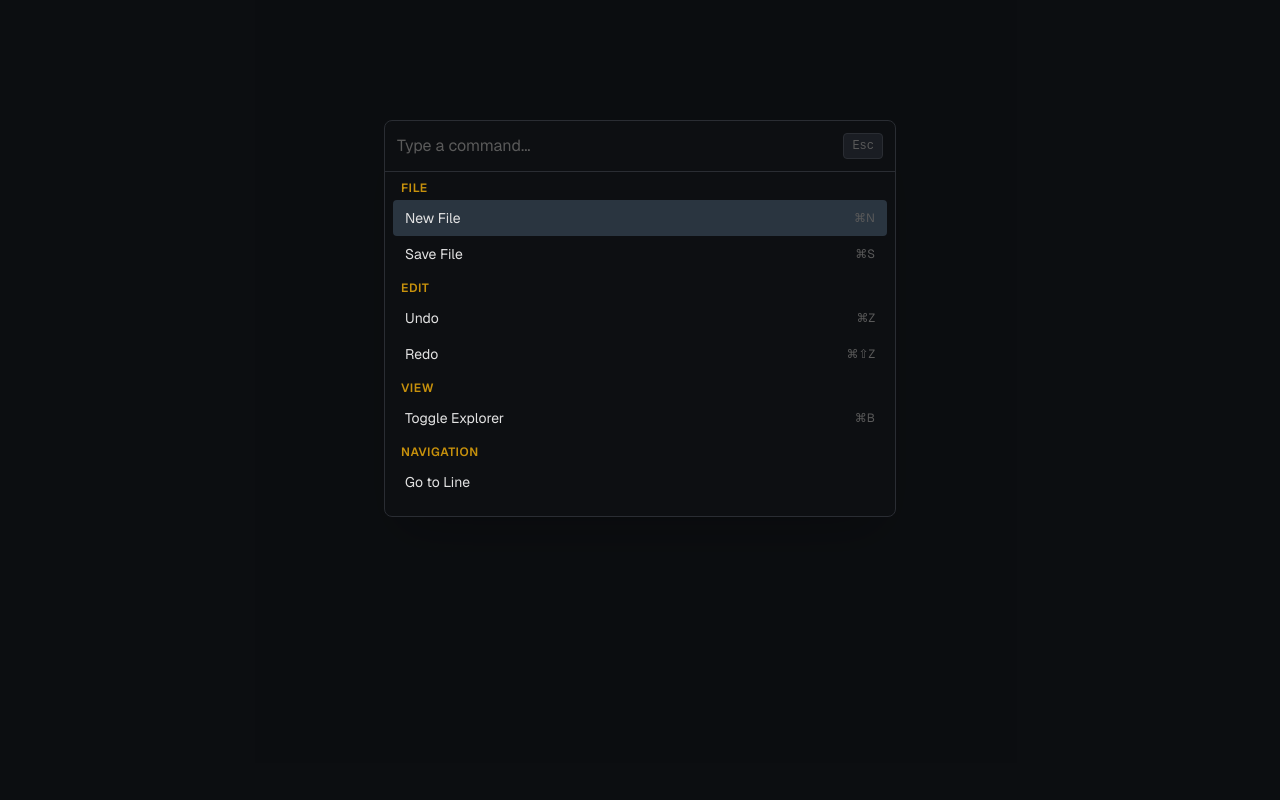
Scenario: CommandPalette › Fuzzy Search Filtering › should filter commands by fuzzy match
The width and height of the screenshot is (1280, 800).
Note: "nf" should match "New File"
Type "nf" into the field with placeholder "Type a command..." at (620, 146), box [397,134,843,158]
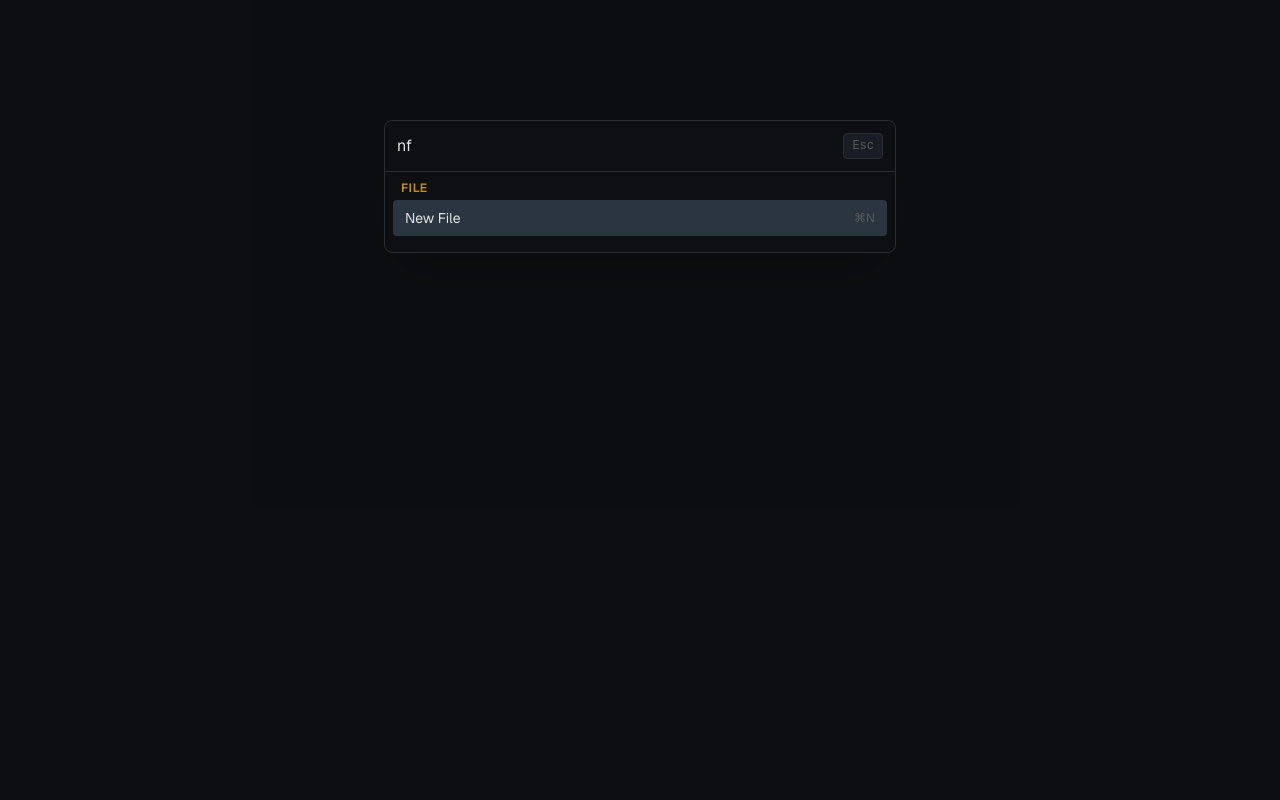
Expected: the text "New File" is shown, [405,208,460,228]
Result: the button "Save File" is gone
